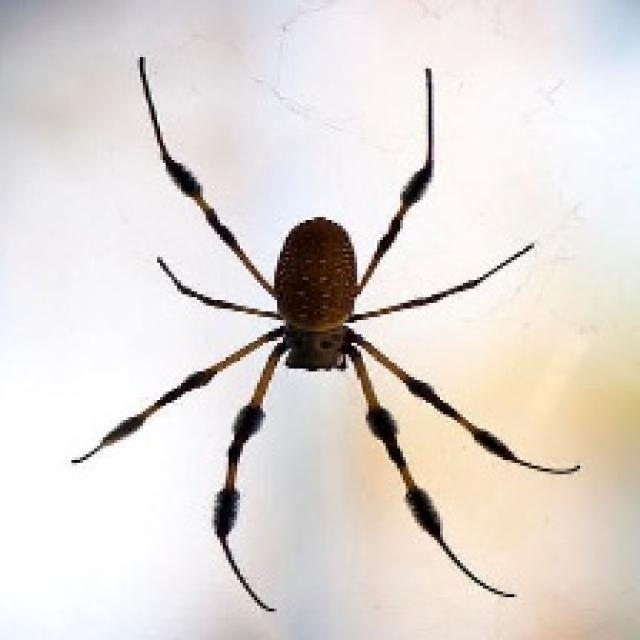Non venomous spider: (134, 138, 530, 527)
